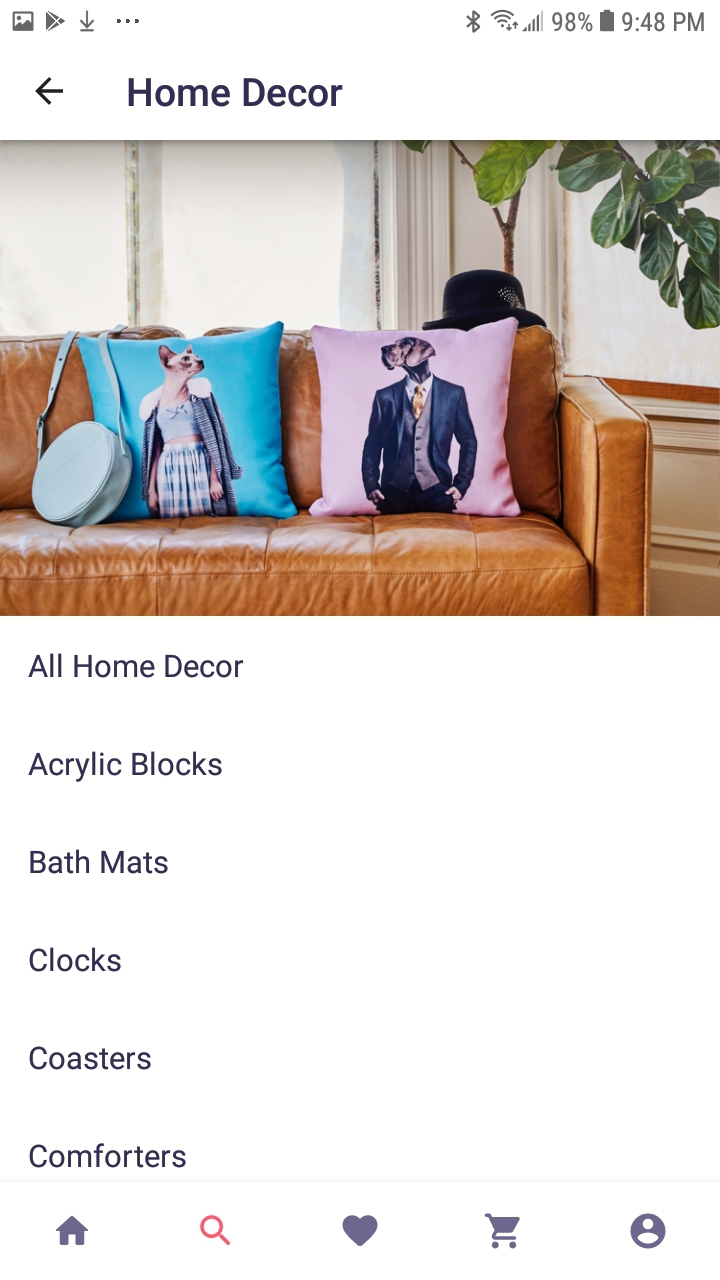Icon: (629, 1213, 666, 1249), (485, 1212, 520, 1249), (342, 1214, 379, 1246), (57, 1216, 90, 1246), (200, 1214, 231, 1245), (35, 78, 64, 106)
Image: (1, 141, 720, 617)
Text: (129, 78, 344, 108), (28, 751, 223, 783), (29, 653, 244, 679), (30, 1142, 187, 1168), (30, 849, 169, 875), (30, 1046, 152, 1071), (30, 946, 122, 973)
UpperTaskBar: (1, 1, 720, 34)
